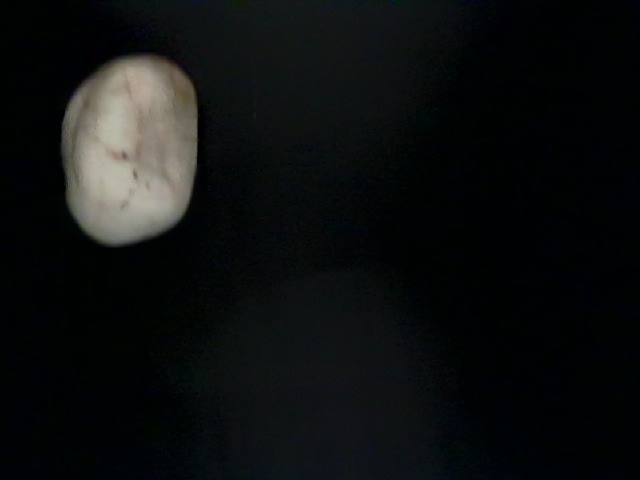QTLJ: (368, 273, 620, 480)
